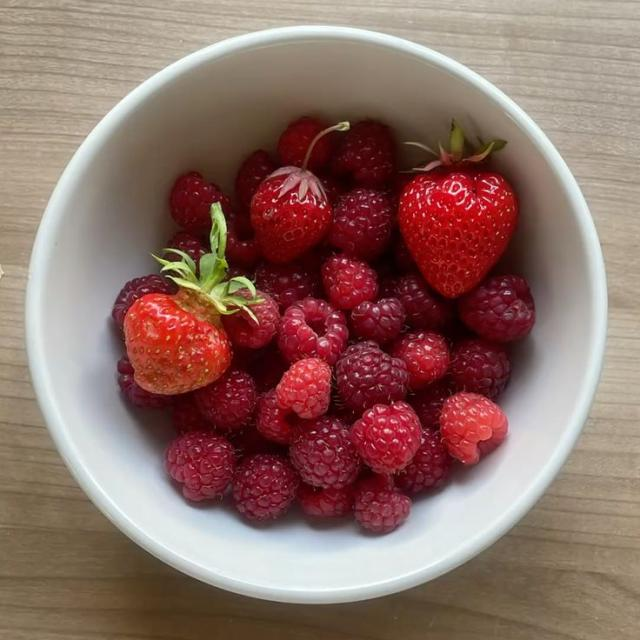raspberry: (336, 341, 408, 413), (351, 402, 422, 473), (290, 416, 359, 488), (459, 276, 534, 341), (440, 393, 507, 465), (278, 298, 348, 365), (165, 432, 233, 500), (329, 189, 393, 261), (233, 454, 299, 519), (332, 120, 396, 187), (194, 369, 256, 430), (170, 172, 231, 234), (112, 274, 176, 331), (450, 339, 510, 399), (256, 261, 322, 312), (391, 332, 449, 390), (396, 432, 451, 493), (276, 358, 331, 419), (354, 475, 411, 533), (222, 291, 279, 348), (394, 274, 453, 329), (322, 256, 377, 309), (118, 357, 174, 407), (351, 298, 405, 345), (235, 150, 277, 208), (278, 117, 327, 166), (407, 380, 452, 431), (255, 389, 295, 444), (228, 424, 286, 458), (250, 342, 289, 391), (227, 214, 261, 269), (298, 484, 354, 517), (167, 232, 206, 272), (172, 394, 212, 433), (386, 173, 414, 211), (393, 233, 417, 274), (320, 175, 347, 208), (230, 346, 260, 373), (371, 255, 395, 283), (379, 276, 398, 299), (227, 266, 253, 279)
strawberry: (123, 204, 262, 395), (398, 119, 518, 297), (250, 122, 349, 263)
